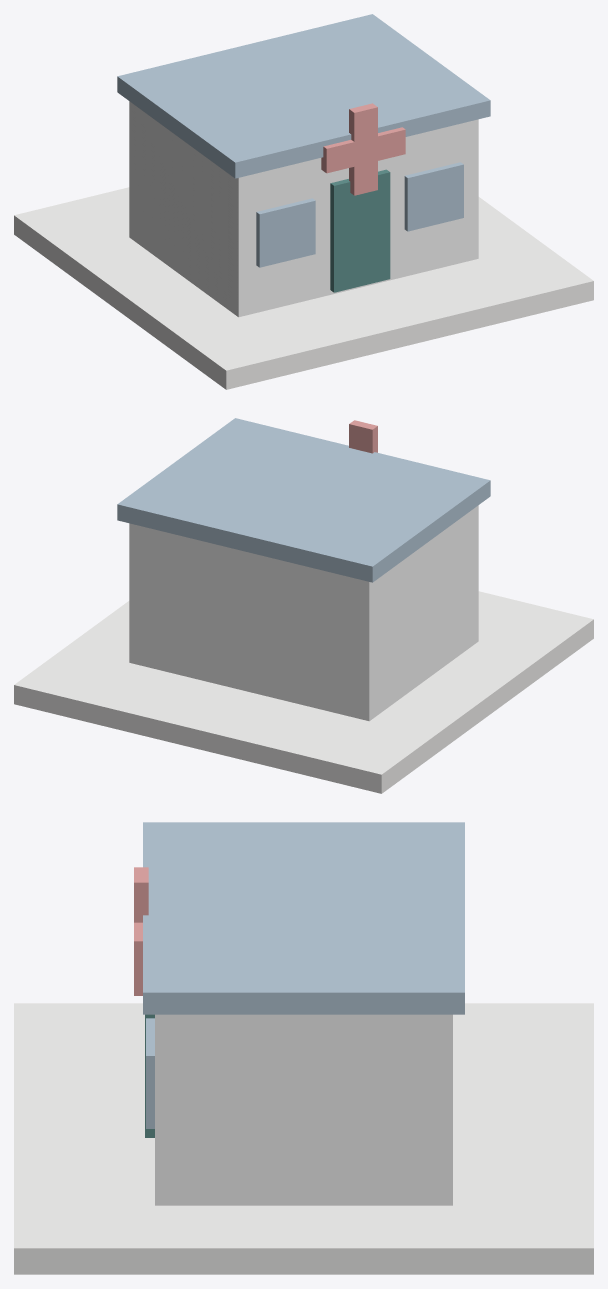
Rendered from veterinarian.gltf.
3 views of the same model, one above another, from view 1: azimuth 30°, elevation 25°; view 2: azimuth 150°, elevation 25°; view 3: azimuth 270°, elevation 25° (orthographic). The views are drawn at different scales.
Visible parts, largest first — view 1: veterinarian_0, veterinarian_1, veterinarian_2, veterinarian_3, veterinarian_4, veterinarian_5, veterinarian_6, veterinarian_7; view 2: veterinarian_1, veterinarian_0, veterinarian_2, veterinarian_7; view 3: veterinarian_0, veterinarian_2, veterinarian_1, veterinarian_5, veterinarian_7.
Boxes of the visible parts, x1,y1,x2,y2 form: veterinarian_0: [14, 187, 593, 389]; veterinarian_1: [129, 101, 478, 317]; veterinarian_2: [117, 14, 490, 178]; veterinarian_3: [330, 169, 390, 292]; veterinarian_4: [256, 198, 315, 267]; veterinarian_5: [404, 162, 463, 231]; veterinarian_6: [321, 127, 405, 173]; veterinarian_7: [349, 103, 377, 195]; veterinarian_1: [129, 505, 478, 721]; veterinarian_0: [14, 591, 593, 793]; veterinarian_2: [117, 418, 490, 582]; veterinarian_7: [349, 420, 377, 453]; veterinarian_0: [14, 1003, 593, 1274]; veterinarian_2: [143, 822, 464, 1014]; veterinarian_1: [155, 1014, 452, 1205]; veterinarian_5: [146, 1018, 154, 1128]; veterinarian_7: [134, 867, 148, 995].
Bounding box in the file's own units: 7.2 × 3.79 × 7.2.
